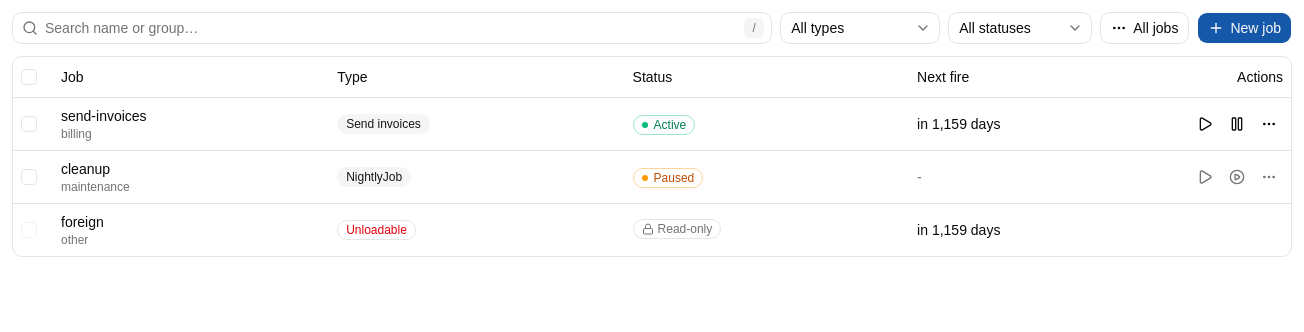
it: JobsTable › pauses the selected jobs in bulk, never offering jobs from other apps
Click the checkbox named "Select all" at (29, 77), box [21, 69, 37, 85]
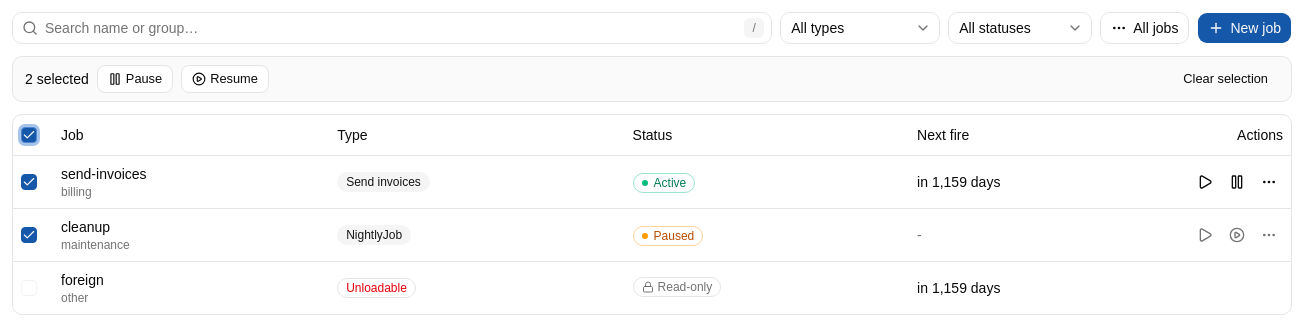
Expected: the text "2 selected" is shown, [25, 69, 89, 89]
Click the button "Pause" at (135, 79), box [97, 65, 173, 93]
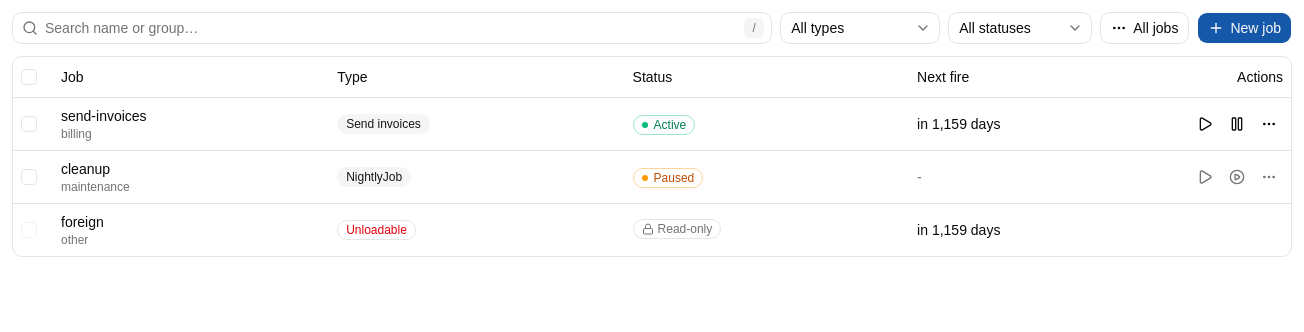
Expected: the text "selected" is gone
